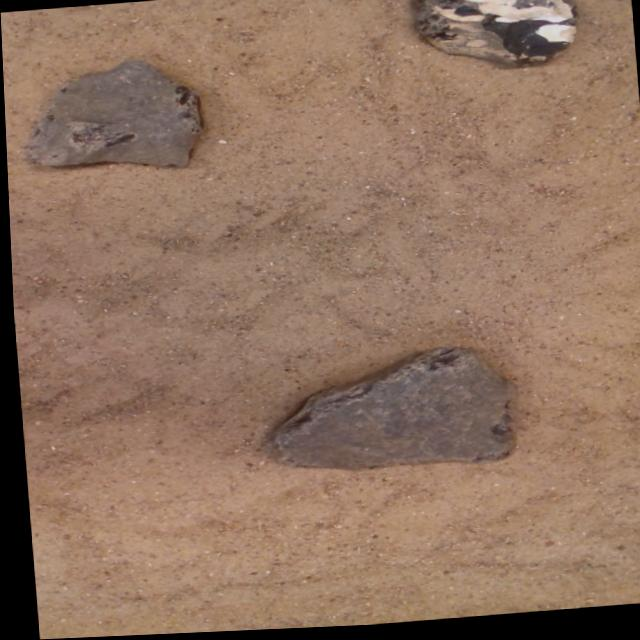rock: (268, 350, 511, 472), (27, 61, 203, 168), (417, 0, 577, 70)
